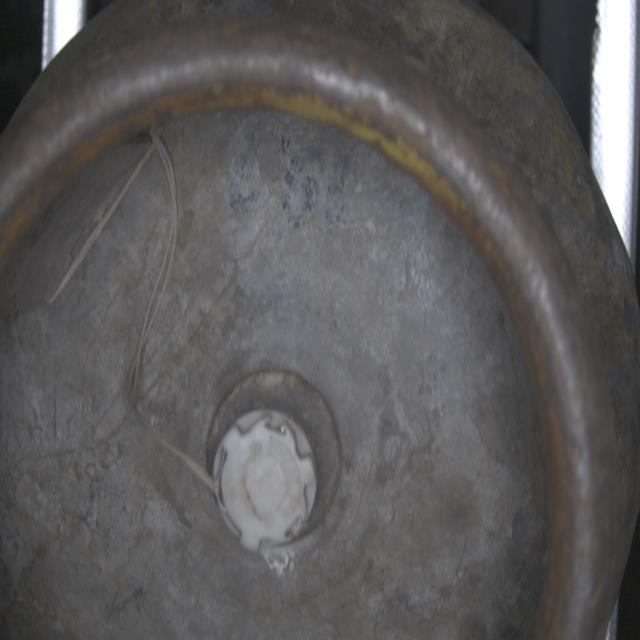Cap: (214, 414, 321, 546)
